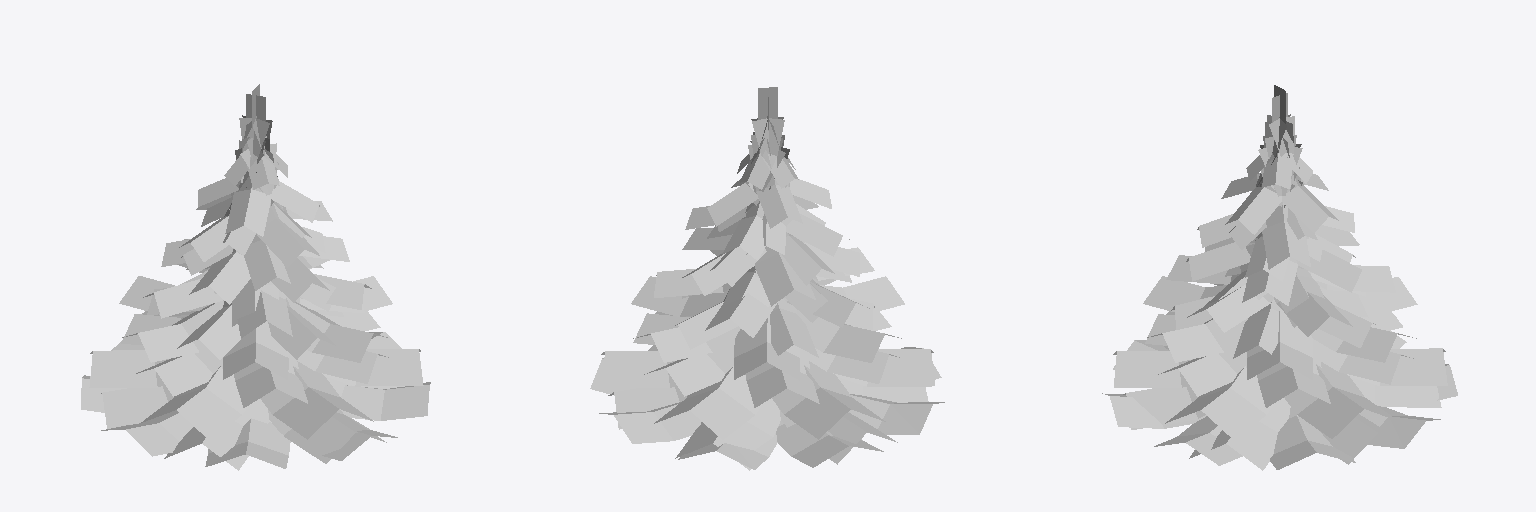
Rendered from snow_pine_tree.obj.
3 views of the same model, side by side, from view 1: azimuth 30°, elevation 25°; view 2: azimuth 150°, elevation 25°; view 3: azimuth 270°, elevation 25° (orthographic).
Parts seen in each view (by area): view 1: snow_pine_tree; view 2: snow_pine_tree; view 3: snow_pine_tree.
Part boxes in pixels (left/top/right/bottom): snow_pine_tree: left=81, top=84, right=430, bottom=470; snow_pine_tree: left=590, top=87, right=944, bottom=470; snow_pine_tree: left=1102, top=85, right=1457, bottom=470.
Size of the model in its own units: 8.6 by 8.96 by 8.6.